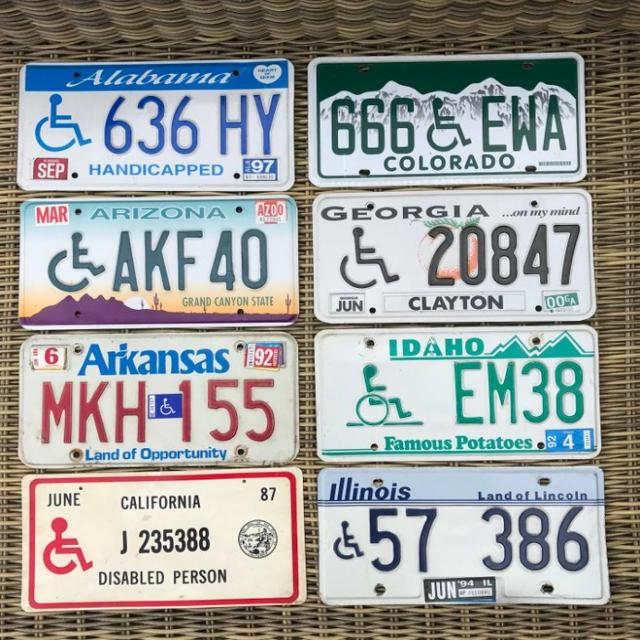symbol_of_access: (342, 355, 420, 425), (34, 223, 108, 288), (333, 222, 400, 291), (40, 508, 96, 575), (38, 93, 92, 155), (419, 90, 470, 153), (326, 519, 368, 564), (155, 396, 179, 417)
